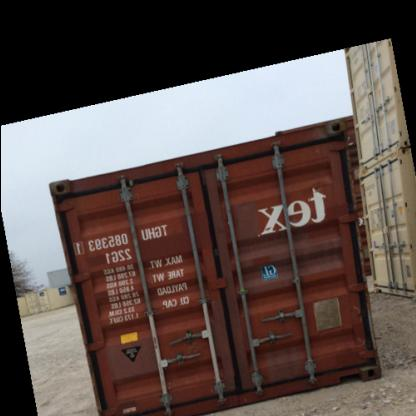Damage: (262, 344, 299, 384), (342, 335, 366, 356), (344, 301, 370, 320)
